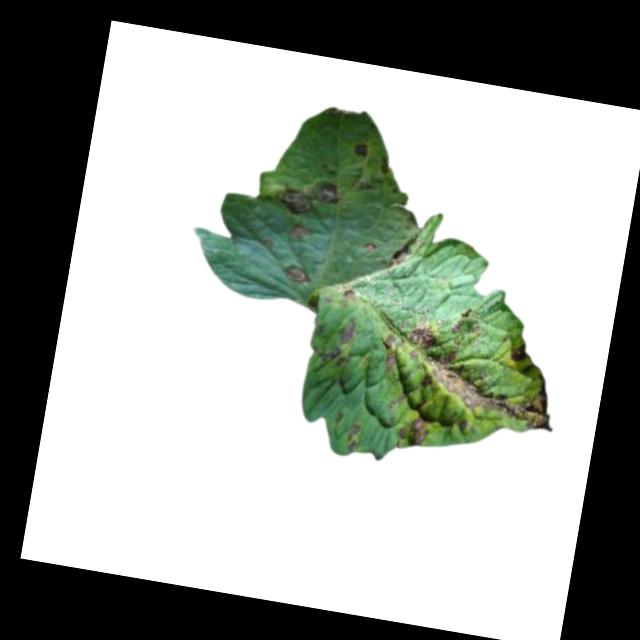Early_blight: (395, 319, 568, 435), (275, 170, 343, 224), (377, 331, 405, 373), (401, 413, 431, 449), (335, 315, 360, 345), (283, 264, 311, 286), (290, 219, 314, 241), (353, 139, 372, 161)
